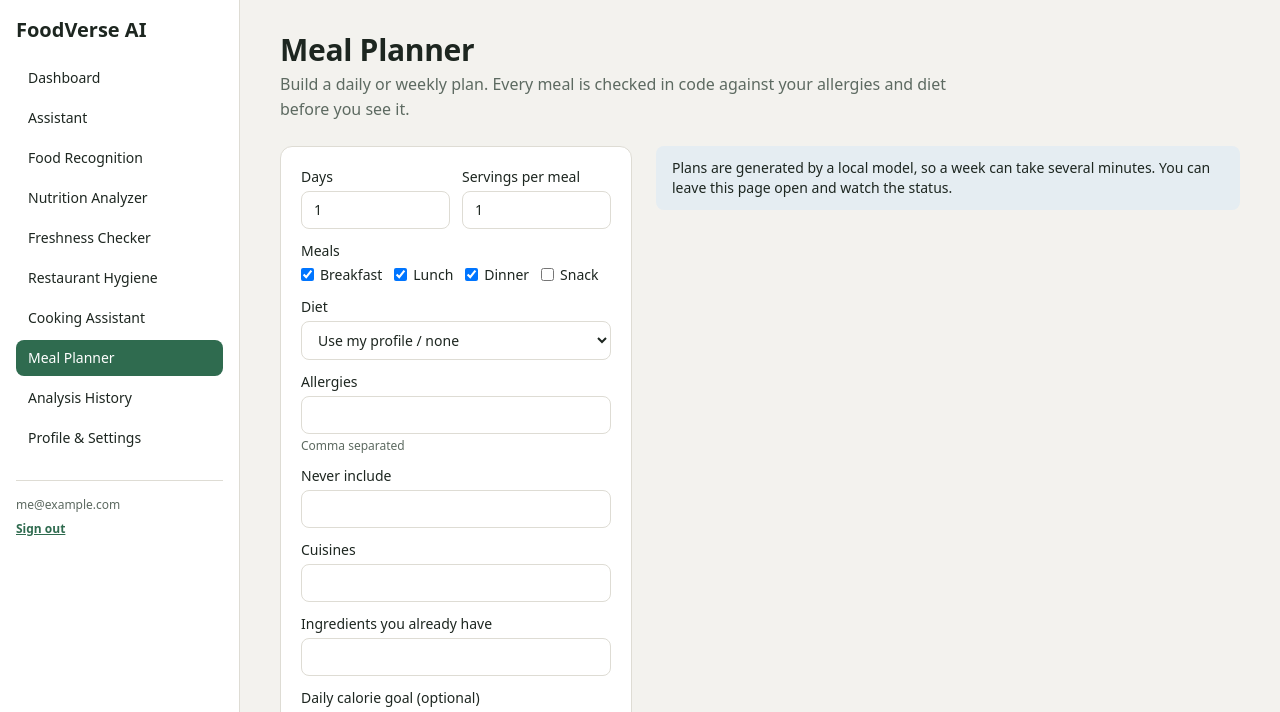
Test: meal planner › requires at least one meal
Click the checkbox labelled "breakfast". click: (308,275)
box: [301,268,314,281]
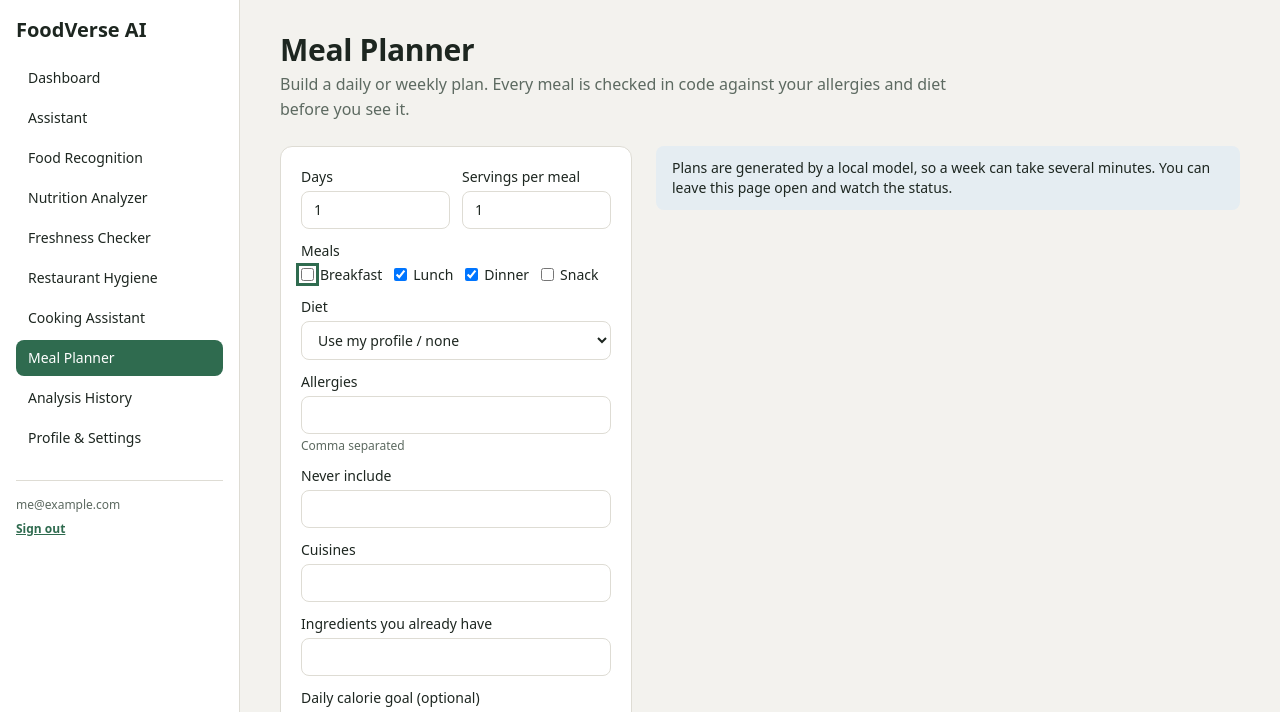
Click the checkbox labelled "lunch". click: (401,275)
box: [394,268,407,281]
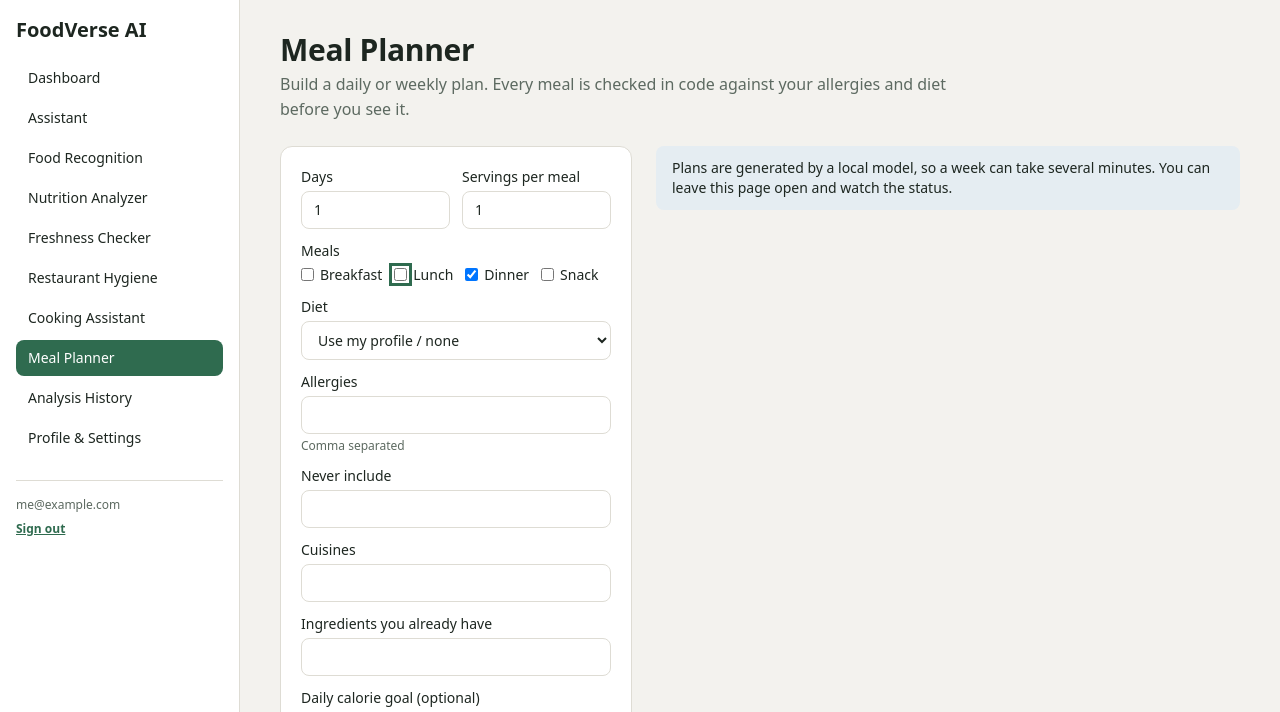
Click the checkbox labelled "dinner". click: (472,275)
box: [465,268,478,281]
(page scrolled)
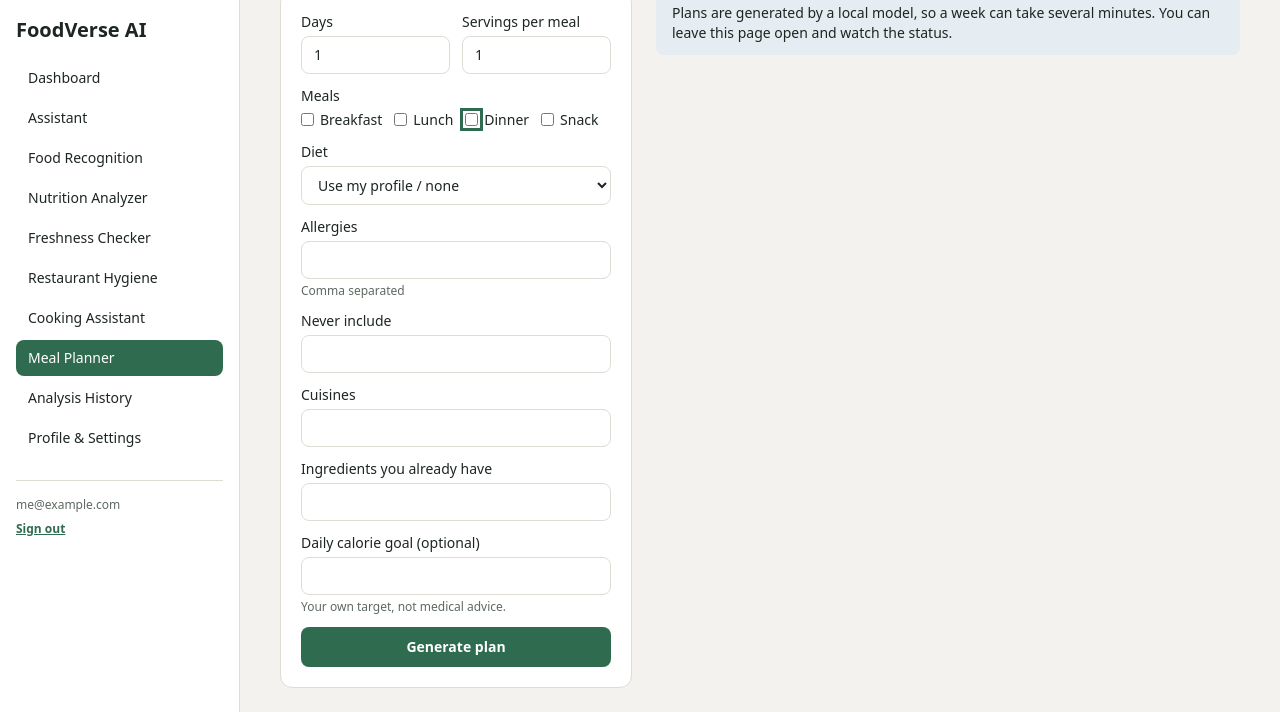
Click the button "Generate plan". click: (456,647)
box: [301,627,611,667]
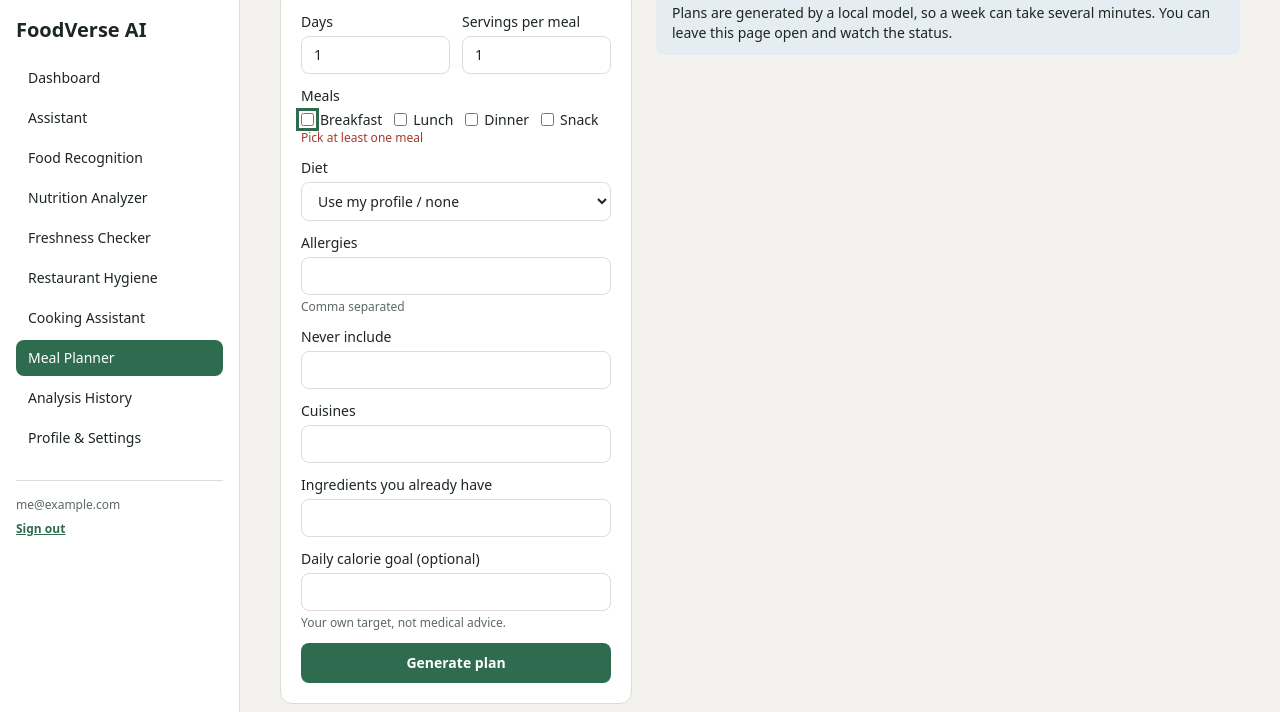
Result: the text "Pick at least one meal" is shown at [301,129,423,146]
